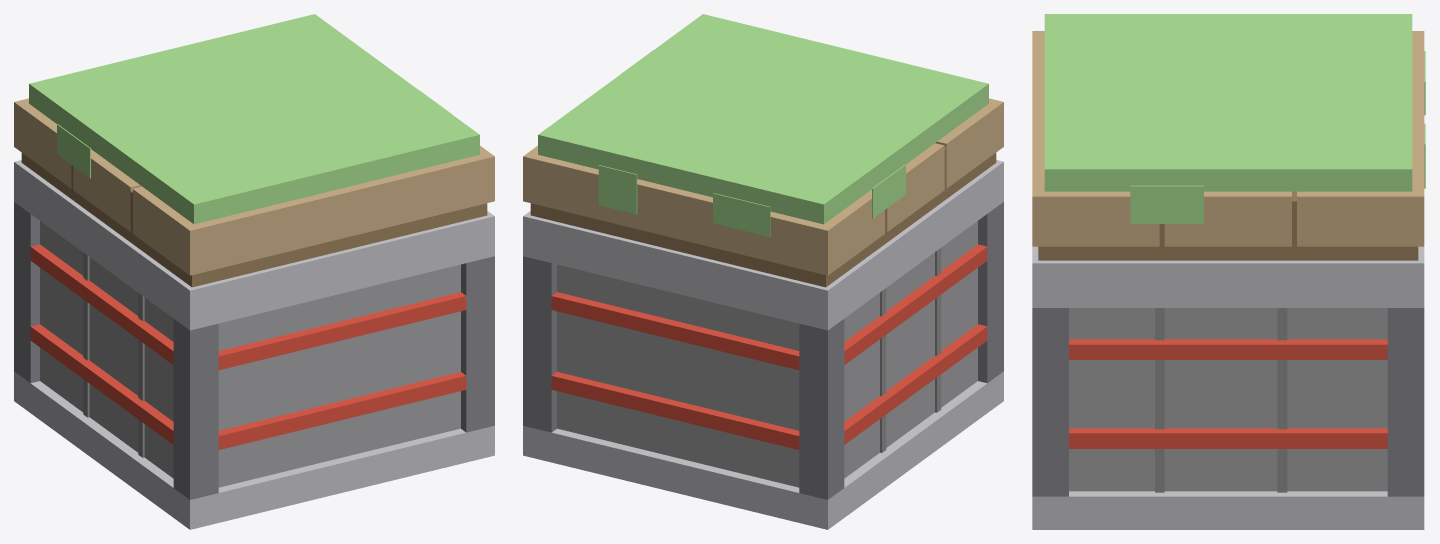
Rendered from sticky_piston_2_held.gltf.
The picture shows the model from 3 angles, left to right: view 1: azimuth 30°, elevation 25°; view 2: azimuth 150°, elevation 25°; view 3: azimuth 270°, elevation 25°; orthographic projection. The views are drawn at different scales.
Parts seen in each view (by area): view 1: cinnabar_sticky_piston_2_held; view 2: cinnabar_sticky_piston_2_held; view 3: cinnabar_sticky_piston_2_held.
Part boxes in pixels (bbox=[...]): cinnabar_sticky_piston_2_held: bbox=[14, 14, 494, 529]; cinnabar_sticky_piston_2_held: bbox=[523, 14, 1003, 529]; cinnabar_sticky_piston_2_held: bbox=[1032, 14, 1425, 529].
Size of the model in its own units: 0.161 by 0.16 by 0.1605.
